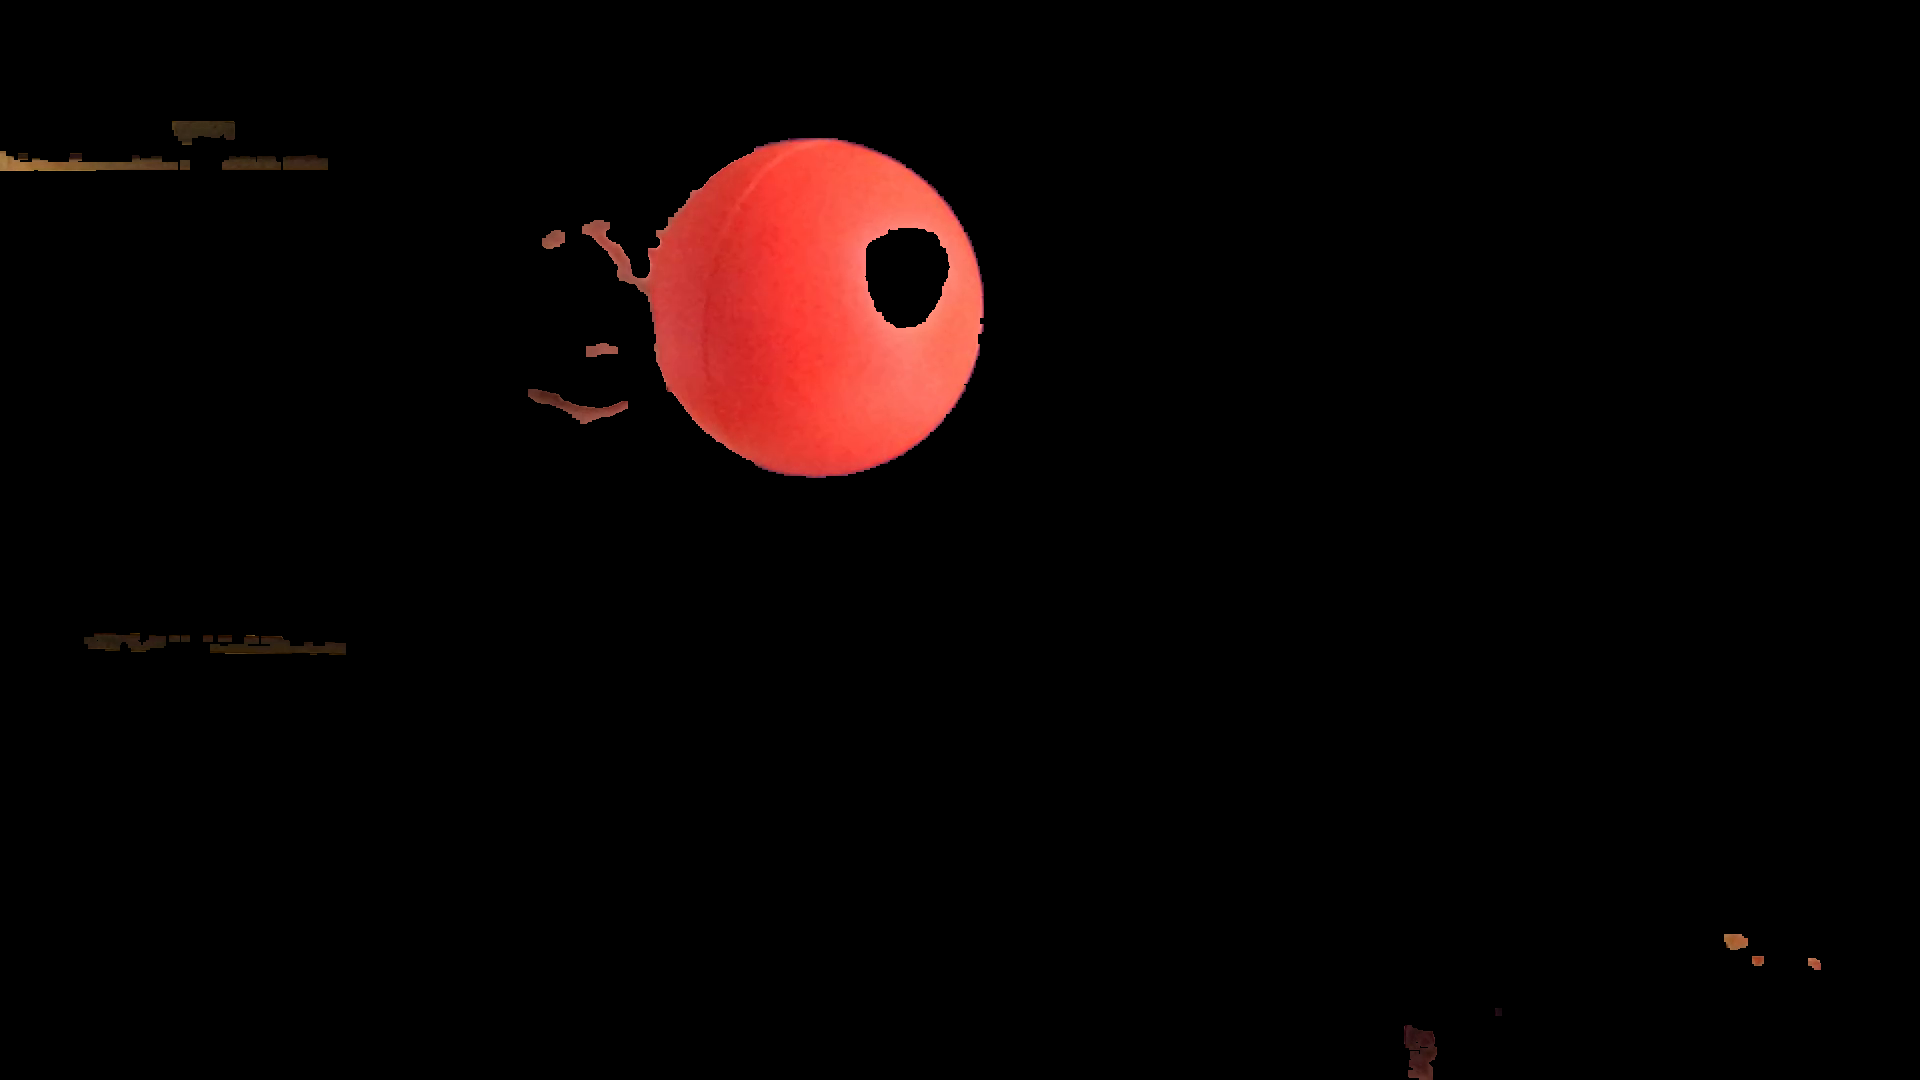Ball: (646, 140, 984, 484)
